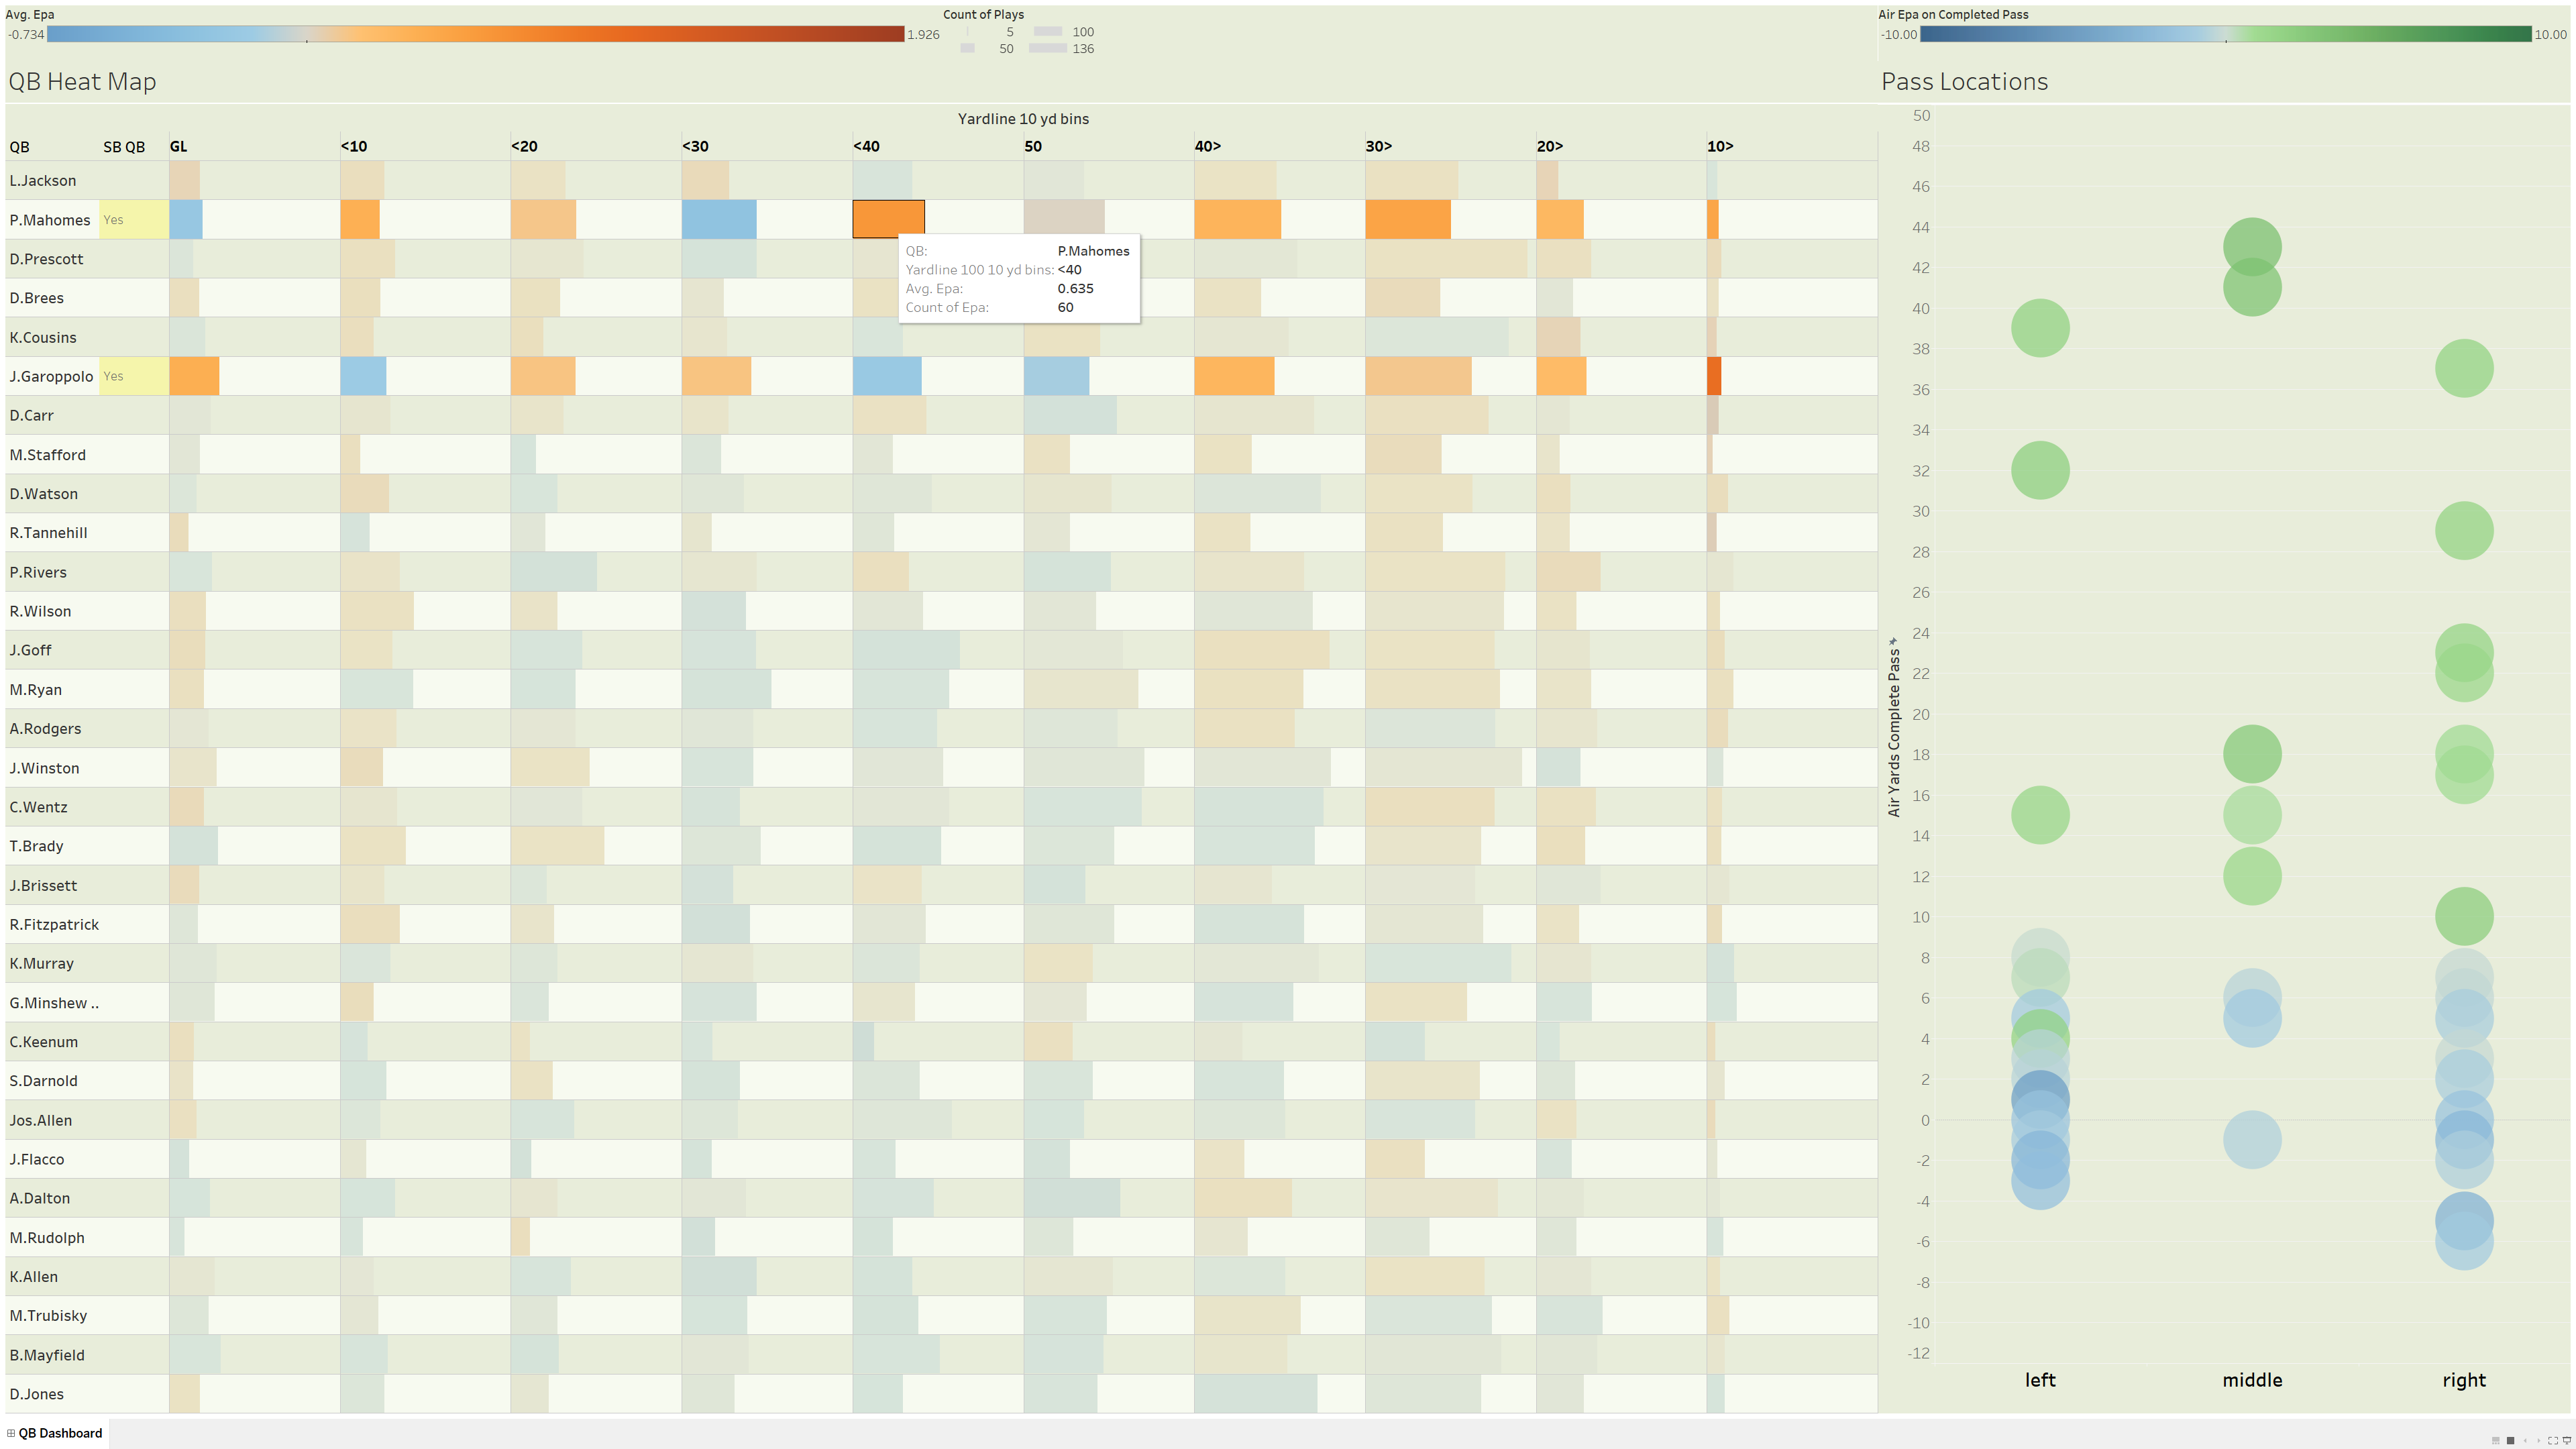

Layout of this report page (visuals, bound fields, positions):
{"tool":"tableau","page":{"name":"Dashboard 1","canvas":[1000,1000],"units":"permille","ordinal":0},"visuals":[{"type":"worksheet","title":"QB Ydline Heat Map (2)","mark":"GanttBar","rows":["Calculation_1105352256792821767","Calculation_669628994014494725"],"cols":["Yardline 100 5 yd bins (copy)_669628994013032452"],"box":[3.1,5.5,680.1,989]},{"type":"worksheet","title":"QB Ydline Pass Loc","mark":"Circle","rows":["Calculation_669628994003709953"],"cols":["Calculation_1105352256792821767","pass_location"],"box":[683.3,5.5,251.2,989]},{"type":"blank","box":[934.5,5.5,62.4,485.2]},{"type":"blank","box":[934.5,490.7,62.4,485.2]},{"type":"legend","title":"QB Ydline Pass Loc","param":"[federated.1893kuq1ma9ldx1gm1vrt1l6b9w4].[sum:Calculation_669628994003709953:qk]","box":[934.5,975.9,62.4,18.6]}]}

Visuals, with their boxes on the dashboard's canvas, which has no fixed pixel size, in thousandths of its width and height (x1, y1, x2, y2). These are canvas units, not pixel positions in the 2576x1449 screenshot, which may show the page scaled, cropped or inside an application window:
"QB Ydline Heat Map (2)" worksheet (GanttBar marks): <bbox>3, 6, 683, 994</bbox>
"QB Ydline Pass Loc" worksheet (Circle marks): <bbox>683, 6, 934, 994</bbox>
blank: <bbox>934, 6, 997, 491</bbox>
blank: <bbox>934, 491, 997, 976</bbox>
"QB Ydline Pass Loc" legend: <bbox>934, 976, 997, 994</bbox>
